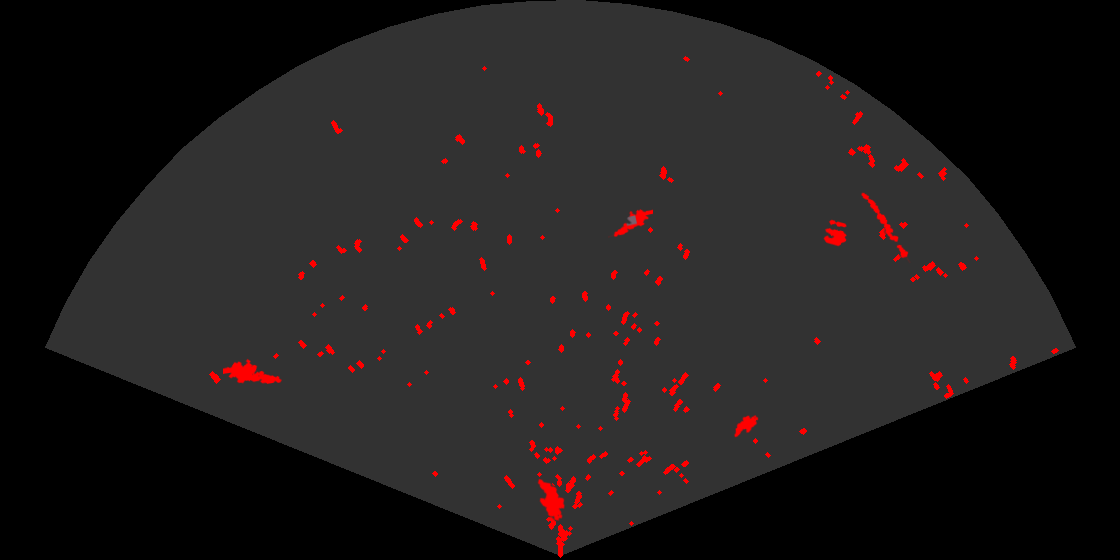AUV: (536, 477, 567, 523), (733, 413, 760, 439)
ball: (822, 218, 848, 248)
chain: (860, 191, 912, 263)
frogman: (223, 357, 282, 385), (608, 208, 653, 239)
